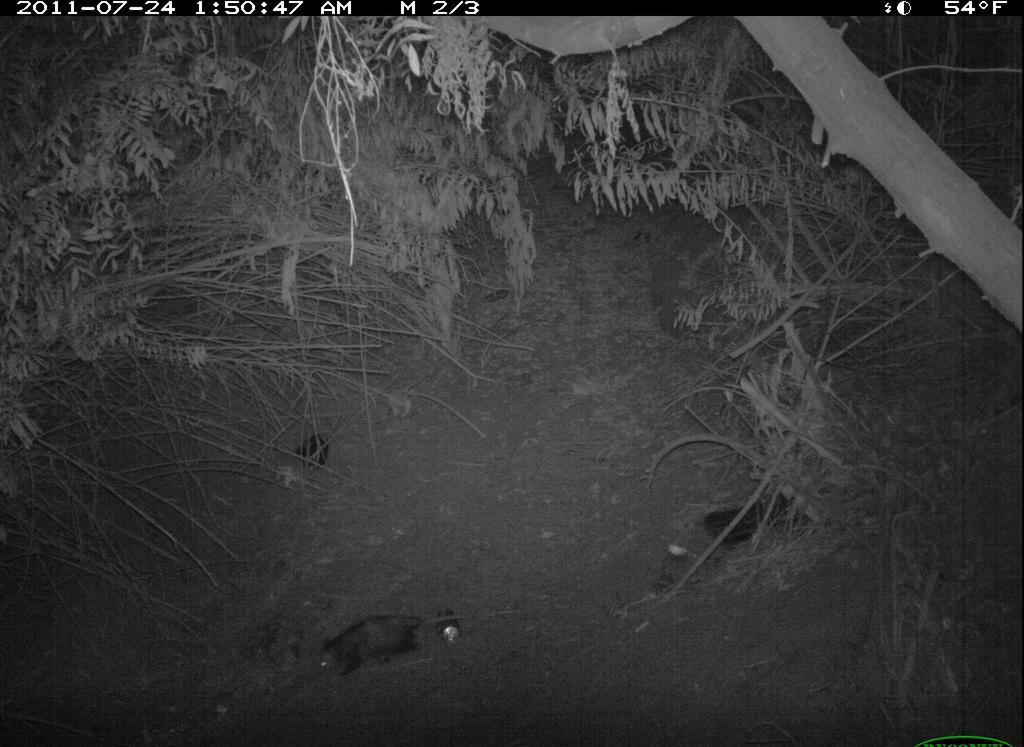opossum: (315, 610, 477, 685)
